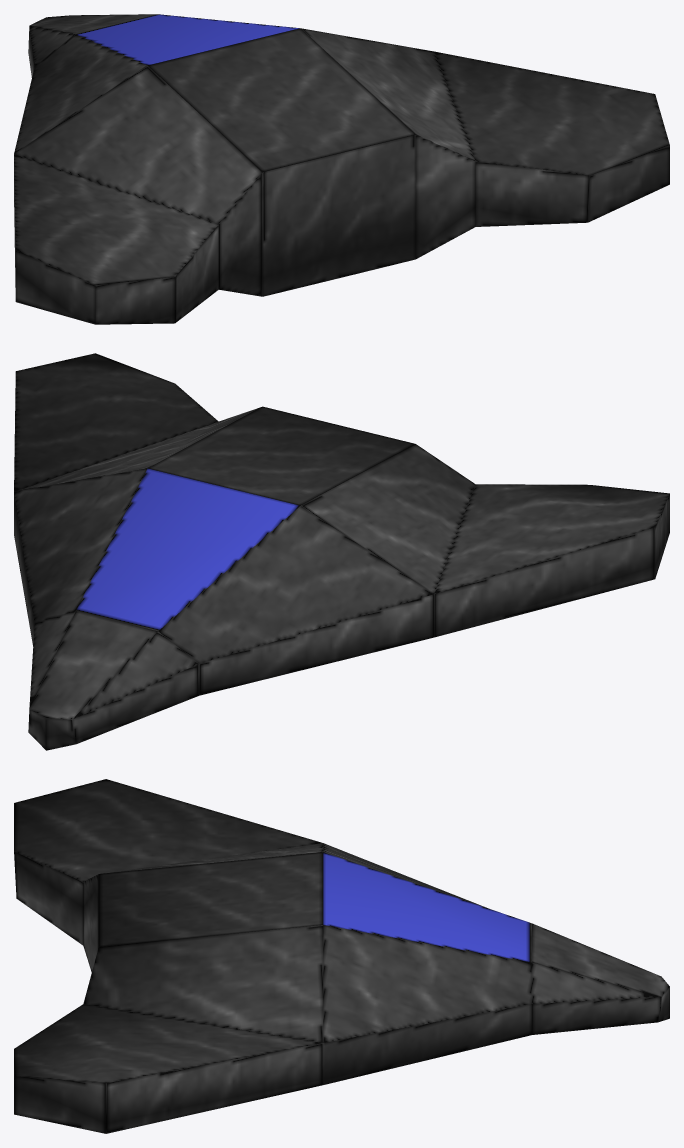
The model's file is ship_body.obj.
The picture shows the model from 3 angles, top to bottom: view 1: azimuth 30°, elevation 25°; view 2: azimuth 150°, elevation 25°; view 3: azimuth 270°, elevation 25°; orthographic projection. The views are drawn at different scales.
Parts seen in each view (by area): view 1: ship; view 2: ship; view 3: ship.
Part boxes in pixels (x1,y1,x2,y2): ship: [14, 14, 669, 324]; ship: [14, 353, 669, 750]; ship: [14, 779, 669, 1133].
Size of the model in its own units: 1.42 by 0.3281 by 1.29.
